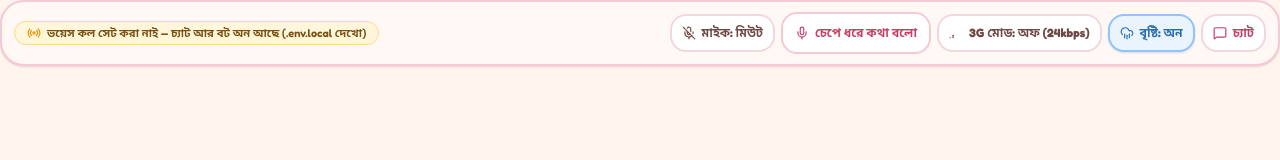
Scenario: components/VoiceBar (F-18, F-19, F-20, F-21, F-22) › toggles Village 3G (16000 bps vs 24000 bps) and Rain while syncing .rain-overlay pause state and preserving explicit Rain OFF
Later steps or results of the test are not shown.
Click the button with test id "village-3g-toggle".
click(1019, 33)  # box [937,14,1102,52]
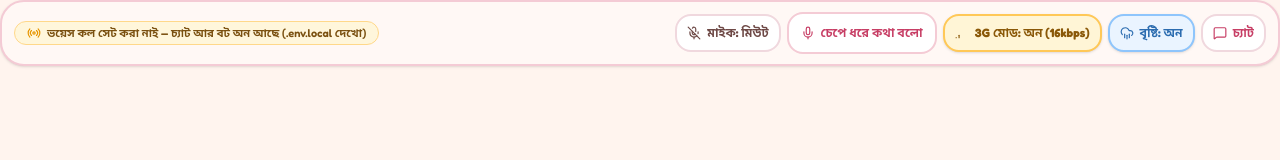
Now the button with test id "village-3g-toggle" has attribute data-audio-bitrate="16000", box [943,14,1102,52]
